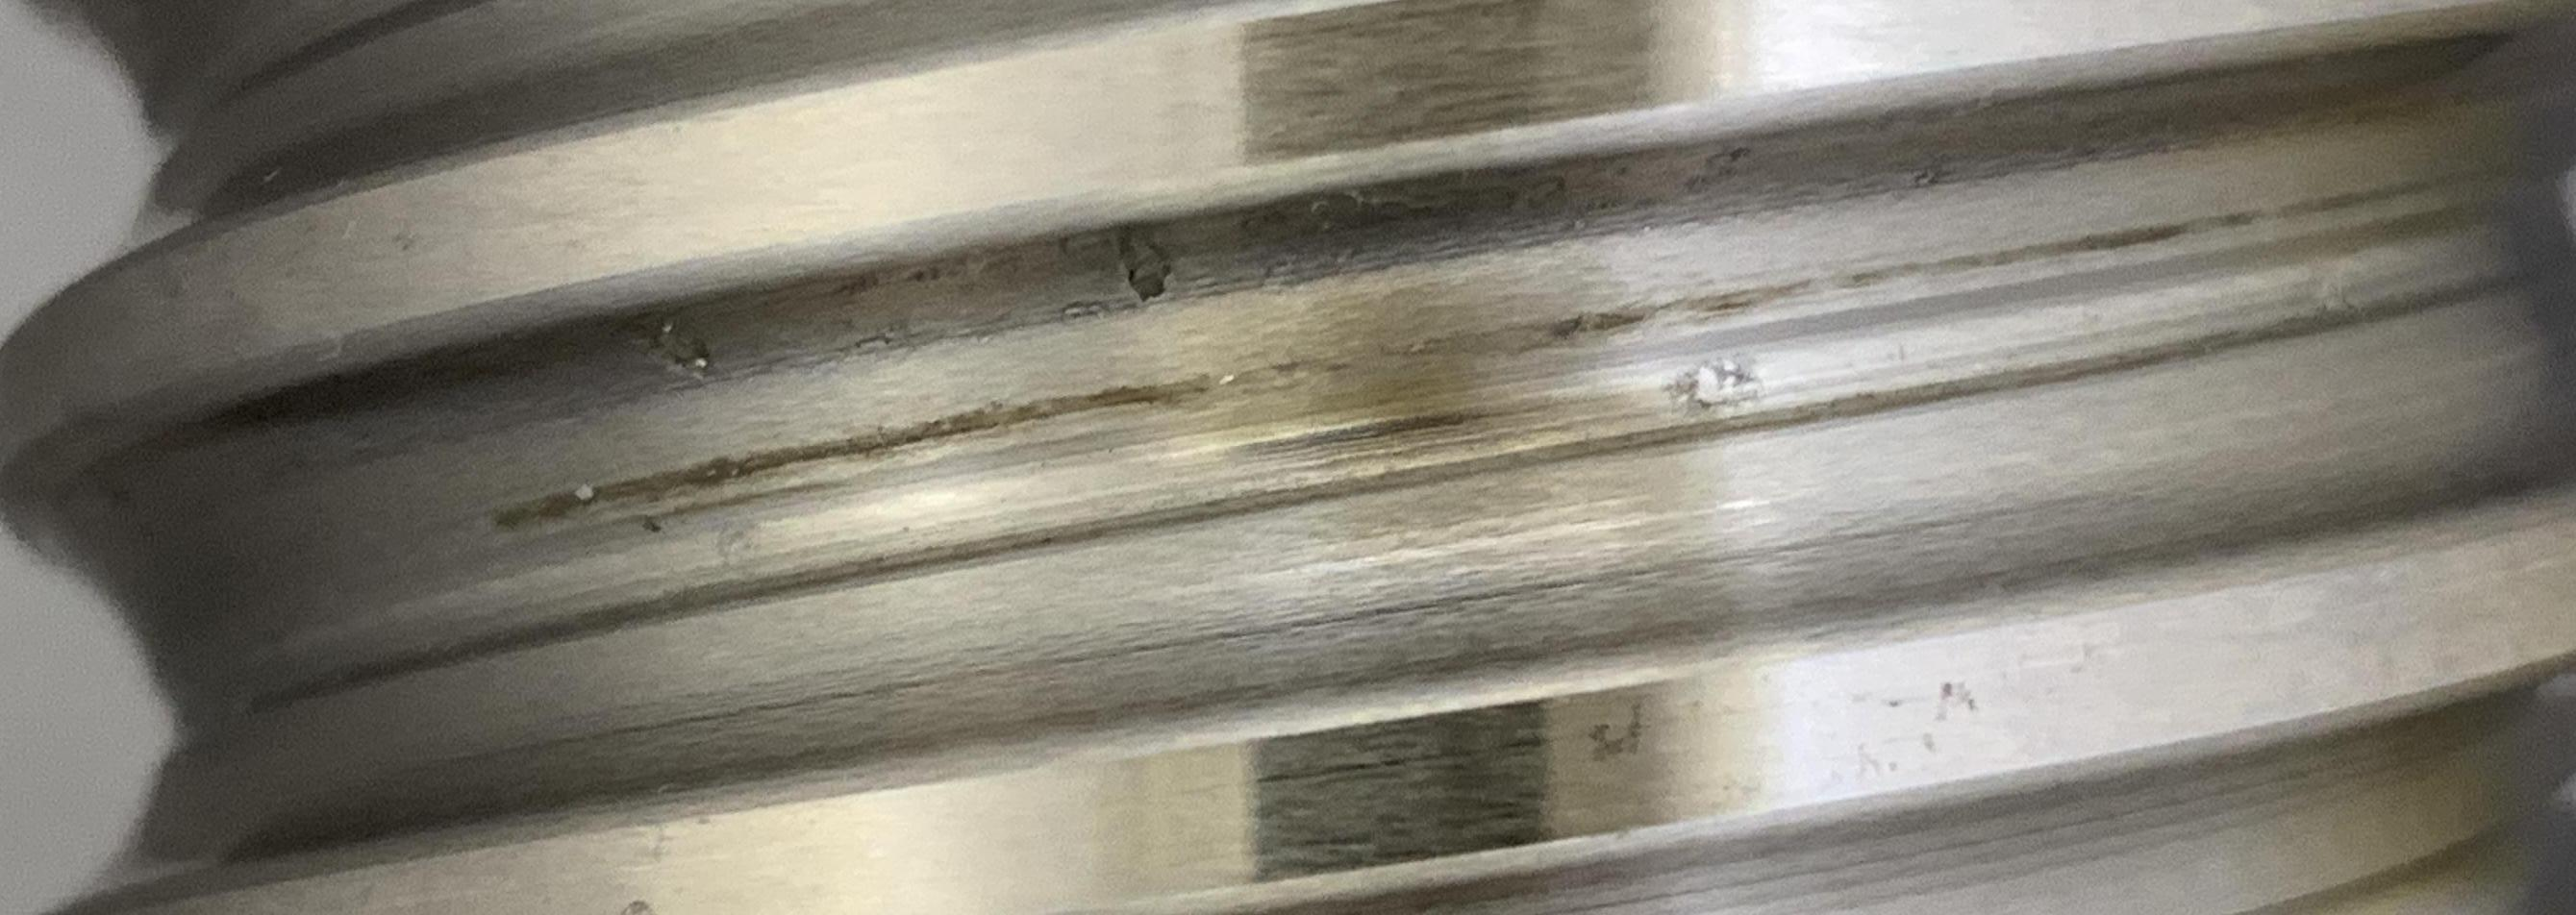pitting: (618, 315, 708, 378), (1127, 241, 1171, 302)
